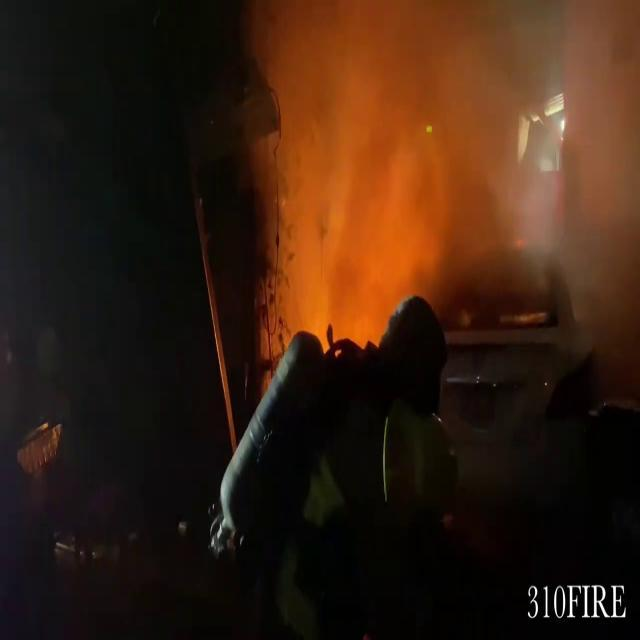Smoke: (212, 0, 640, 345)
